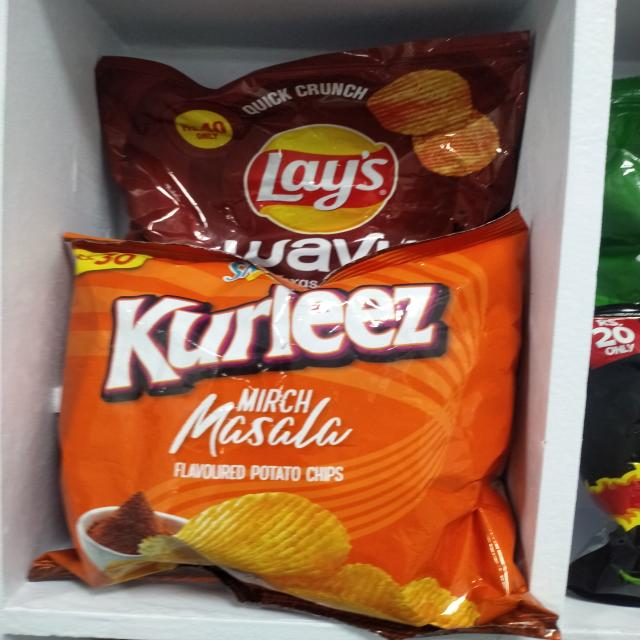Plastic: (19, 267, 566, 640), (89, 12, 528, 214), (569, 316, 640, 600)
